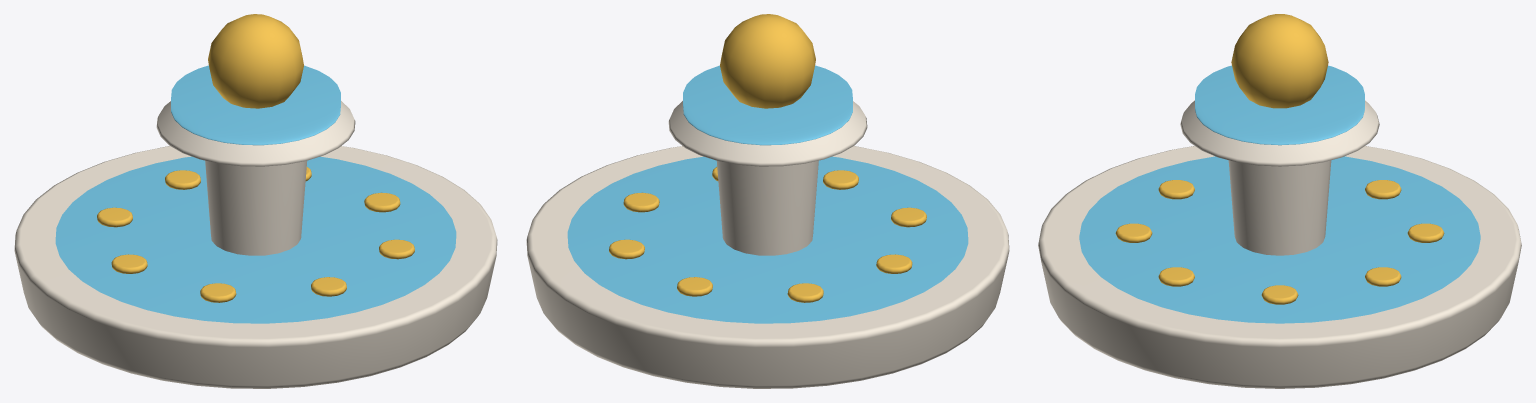
Rendered from corner_jackpot.glb.
The picture shows the model from 3 angles, left to right: view 1: azimuth 30°, elevation 25°; view 2: azimuth 150°, elevation 25°; view 3: azimuth 270°, elevation 25°; orthographic projection.
Parts seen in each view (by area): view 1: Cone; view 2: Cone; view 3: Cone.
Part boxes in pixels (left/top/right/bottom): Cone: left=14, top=14, right=497, bottom=388; Cone: left=526, top=14, right=1009, bottom=388; Cone: left=1038, top=14, right=1521, bottom=388.
Size of the model in its own units: 0.7953 by 0.5 by 0.7953.
